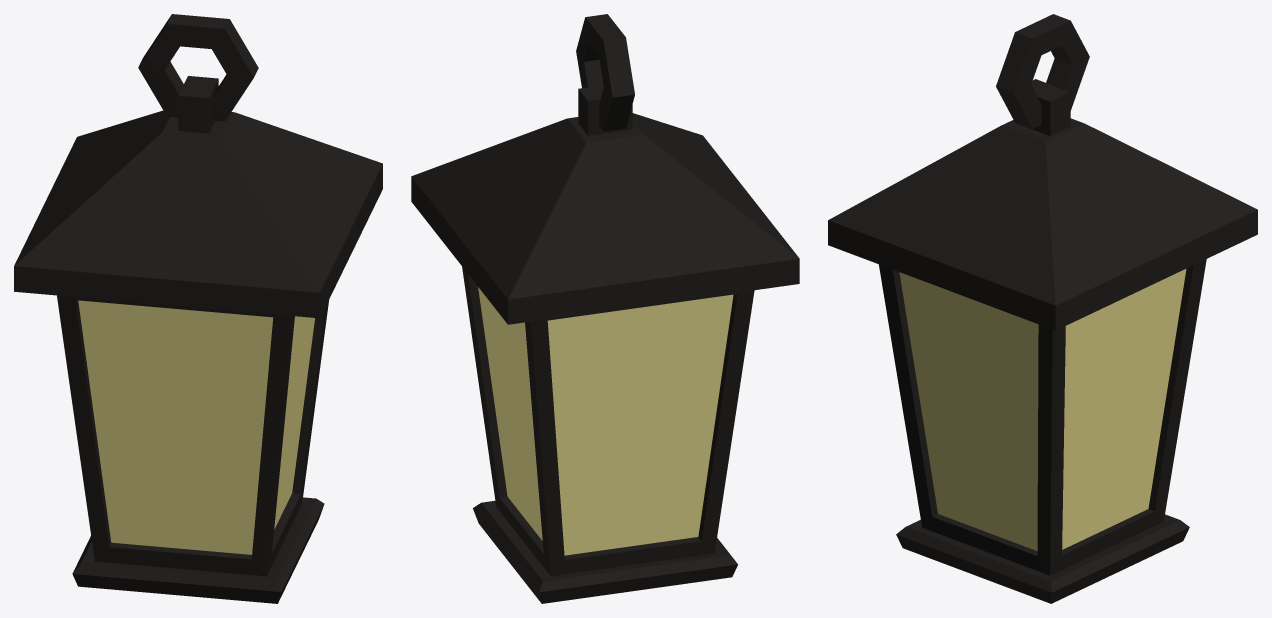
File: Lamp_1.fbx
The picture shows the model from 3 angles, left to right: view 1: azimuth 30°, elevation 25°; view 2: azimuth 150°, elevation 25°; view 3: azimuth 270°, elevation 25°; orthographic projection. The views are drawn at different scales.
Parts seen in each view (by area): view 1: Lamp_1; view 2: Lamp_1; view 3: Lamp_1.
Boxes of the visible parts, x1=… form: Lamp_1: x1=14, y1=14, x2=382, y2=603; Lamp_1: x1=411, y1=14, x2=799, y2=603; Lamp_1: x1=828, y1=14, x2=1257, y2=603.
Bounding box in the file's own units: 20.37 × 27.1 × 20.37.
